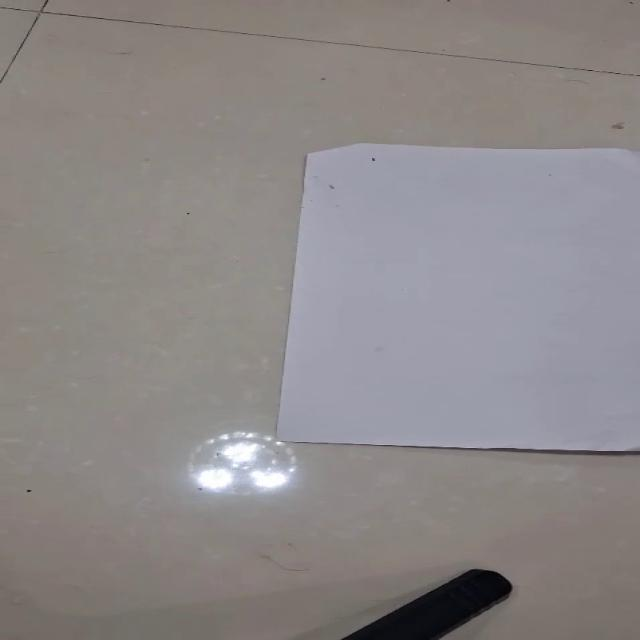paper: (273, 142, 639, 452)
